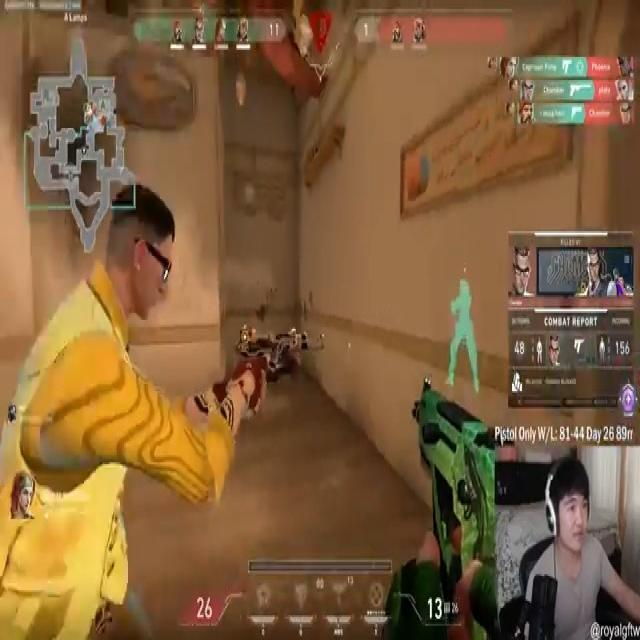ally: (1, 198, 297, 640)
ally behind wall: (445, 277, 482, 400)
